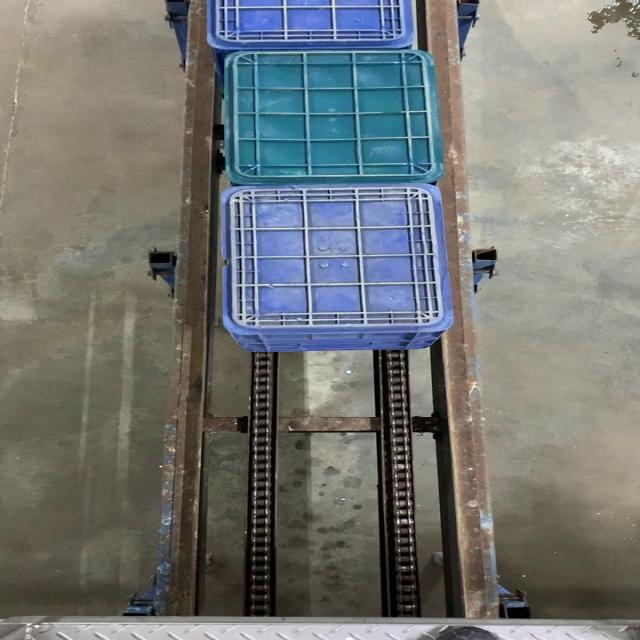Box: (221, 186, 451, 330), (224, 49, 439, 184)
